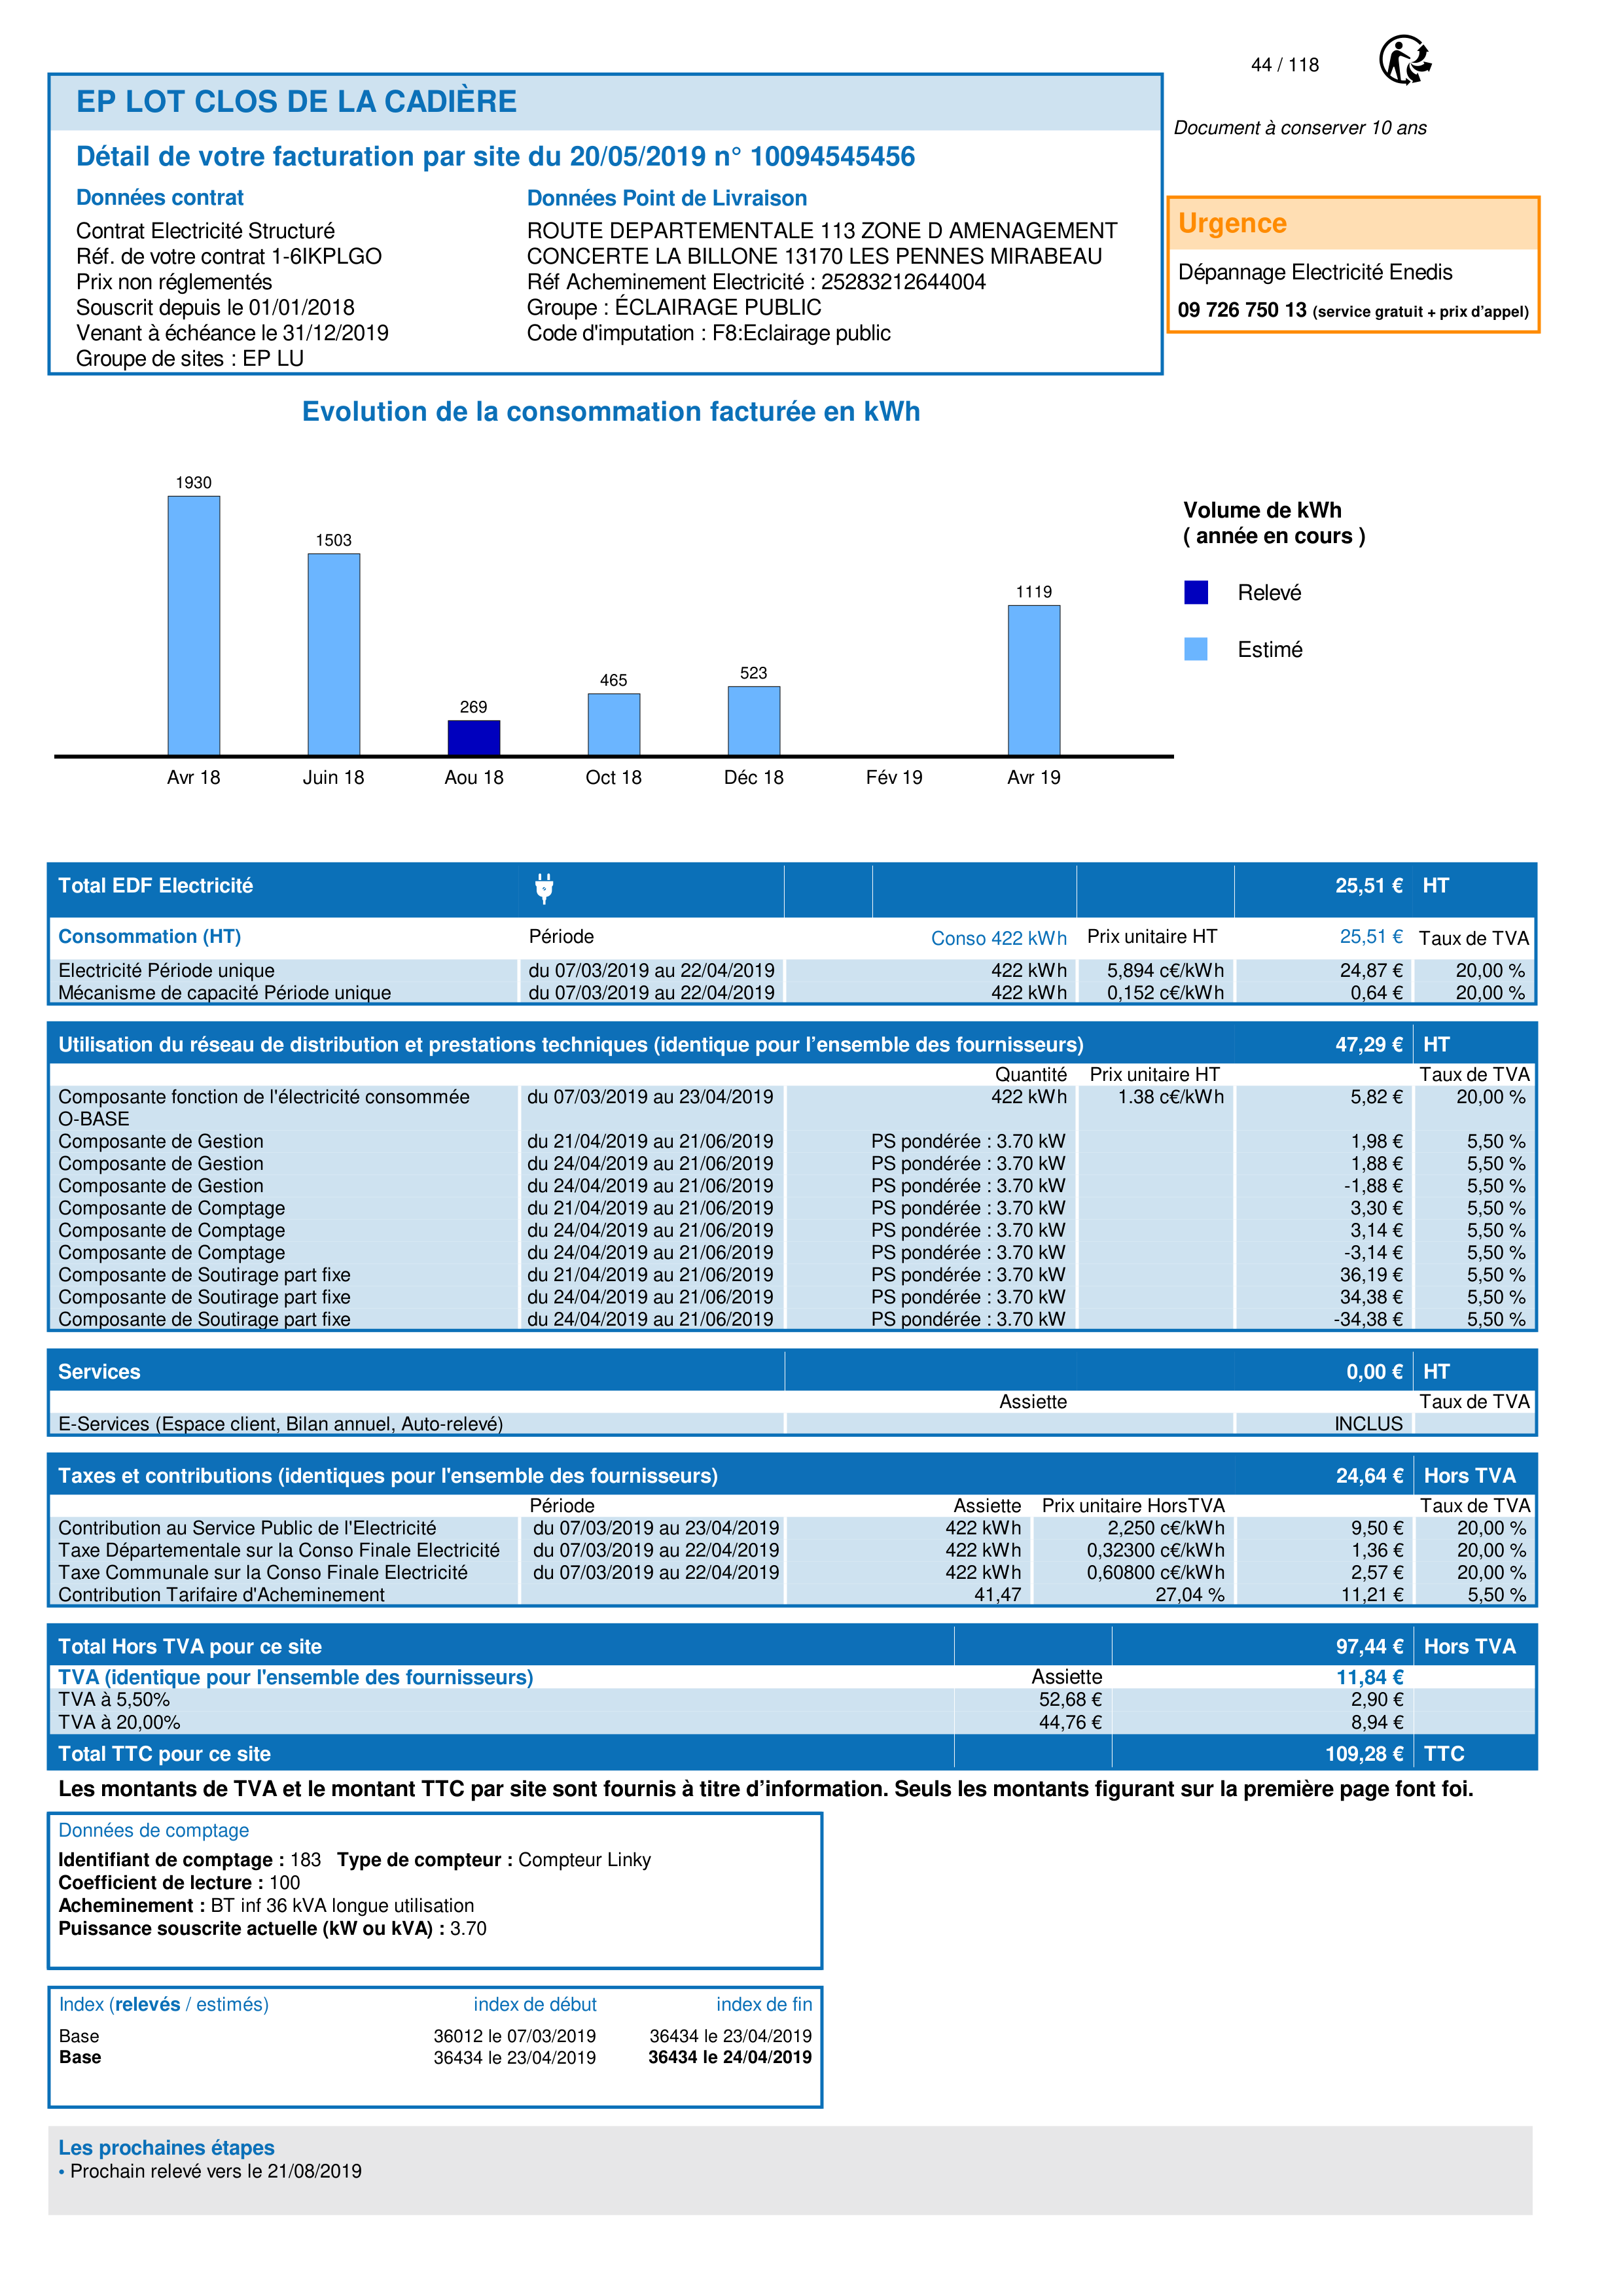area: (47, 1987, 826, 2108)
type_indicator: (49, 1987, 285, 2022)
